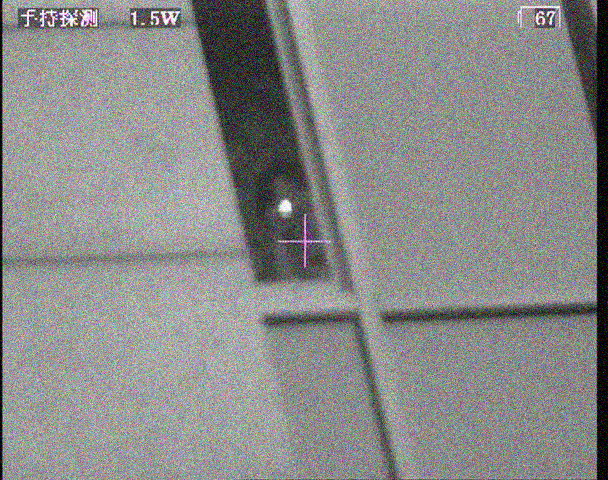my: (276, 198, 293, 219)
